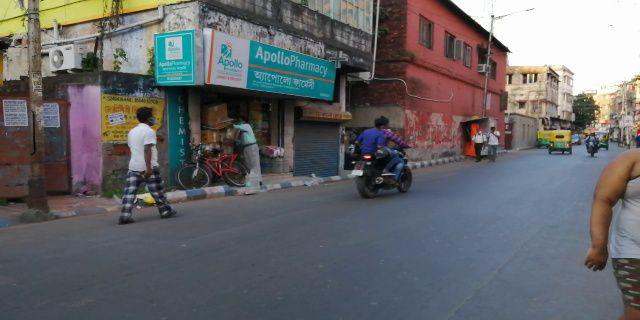Autorickshaw: (545, 129, 573, 156)
Cycle: (174, 138, 253, 189)
Motorbike: (344, 116, 417, 200), (582, 127, 602, 162)
